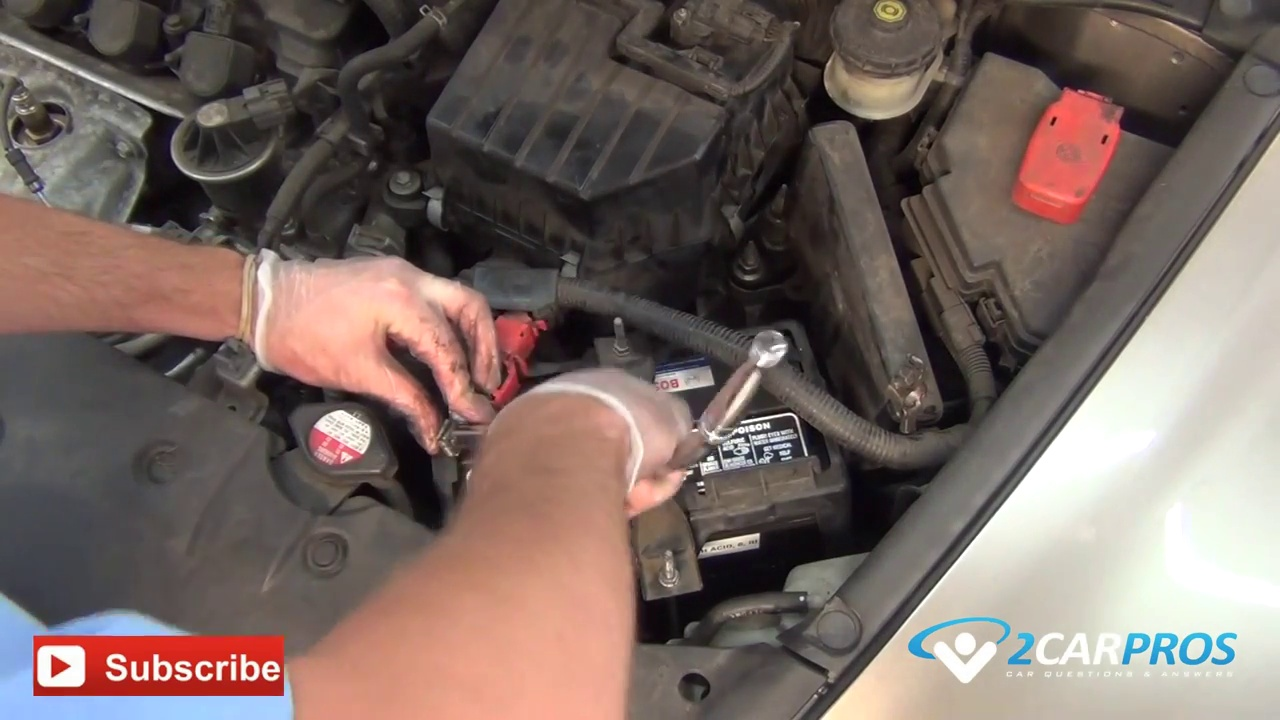battery: (453, 336, 838, 499)
pos_touched: (391, 273, 584, 431)
